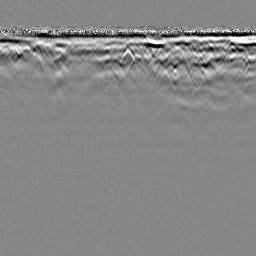cavity: (119, 47, 135, 64)
